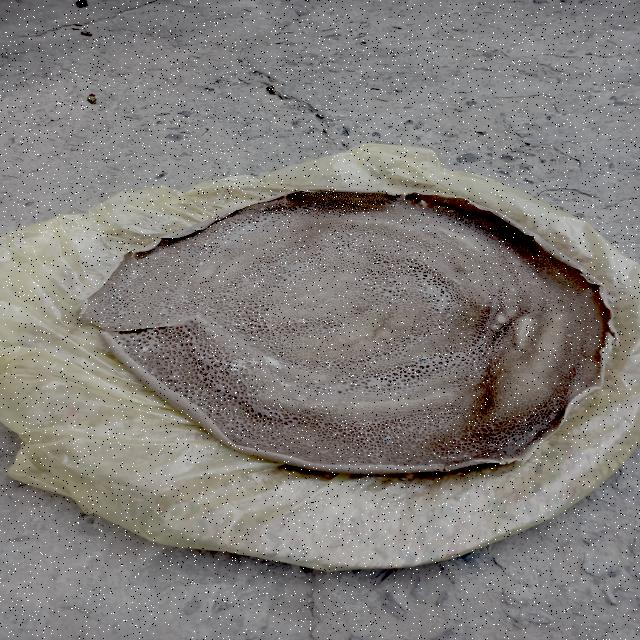injera_mold: (195, 356, 257, 374), (316, 356, 340, 374), (263, 354, 284, 371), (120, 267, 144, 281), (438, 454, 474, 462), (198, 304, 215, 316), (111, 336, 123, 351), (417, 356, 430, 366), (277, 380, 293, 388), (179, 294, 190, 305), (381, 436, 392, 446), (200, 240, 210, 249), (140, 346, 151, 353), (300, 210, 308, 217), (195, 261, 205, 266), (149, 369, 156, 375), (188, 253, 196, 258), (259, 206, 265, 212), (143, 281, 152, 285), (111, 301, 117, 306), (567, 333, 573, 338), (313, 379, 318, 384), (113, 294, 119, 298), (143, 258, 149, 262), (544, 298, 550, 302), (294, 375, 299, 379), (119, 286, 125, 289), (218, 250, 224, 253), (415, 214, 420, 217)
